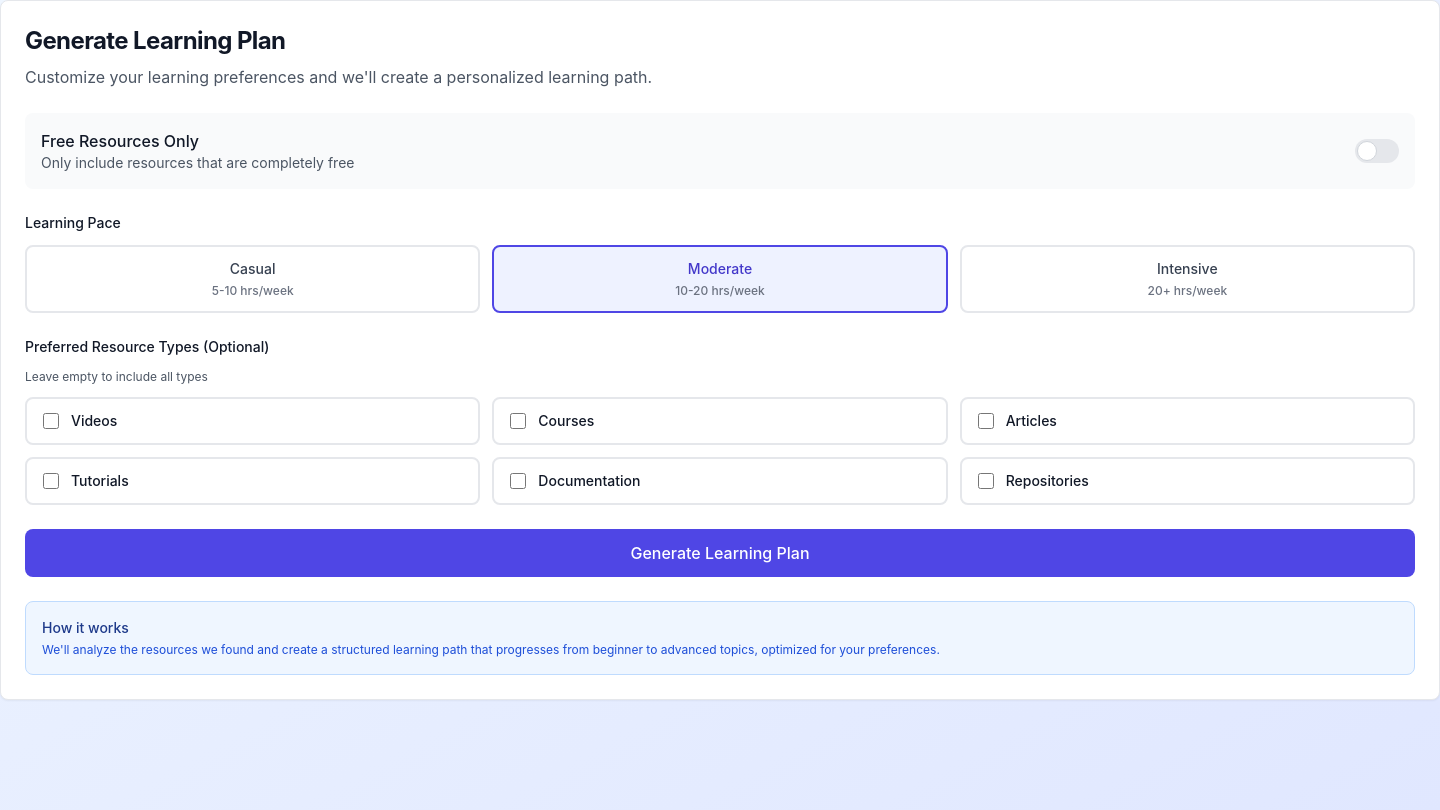
Scenario: PlanGenerator › shows loading state during generation
What coordinates should you click on to do the following:
click the button "Generate Learning Plan"
I would click on:
 (720, 553)
Its box is [25,529,1415,577].
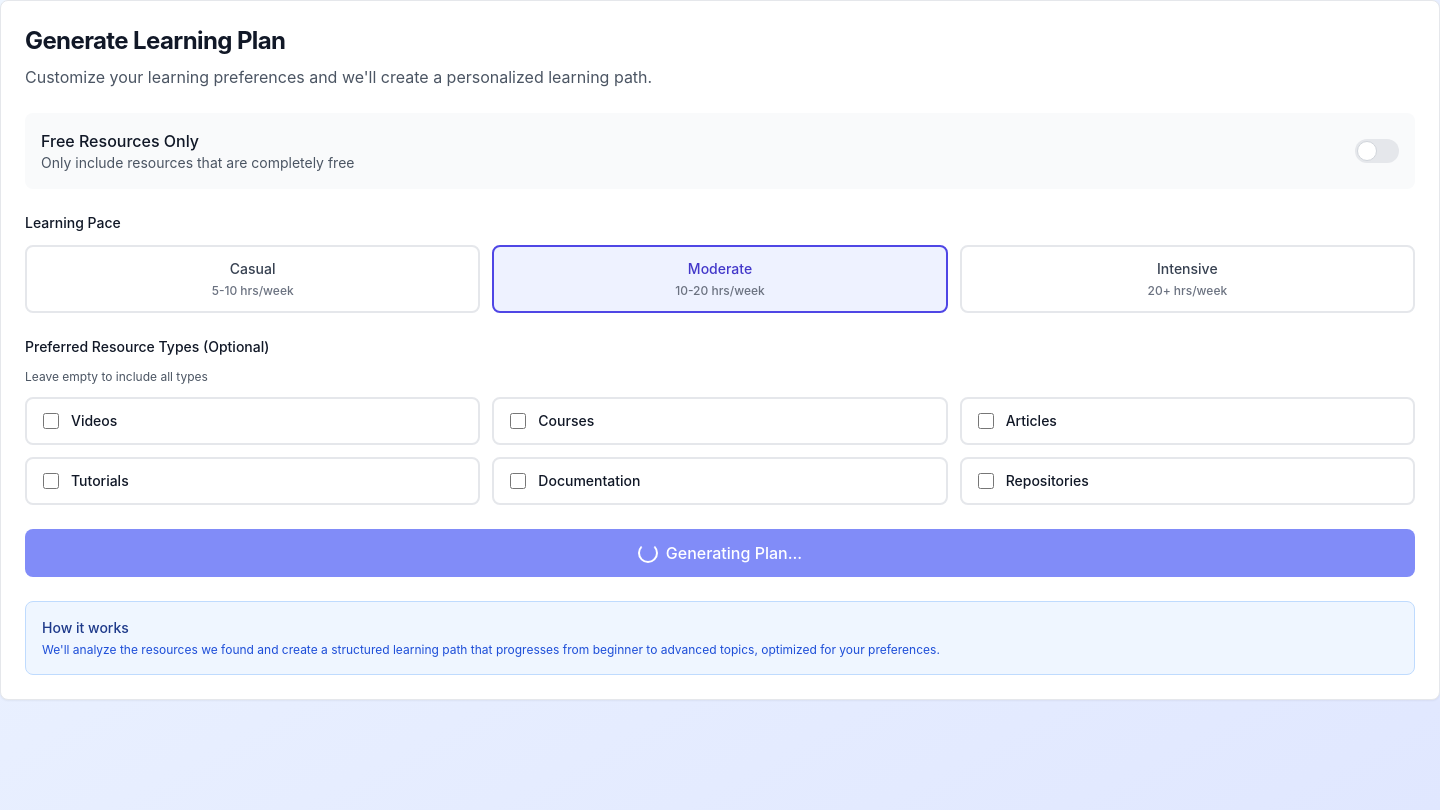
Expected: the text "Generating Plan..." is shown, [638,543,802,563]
